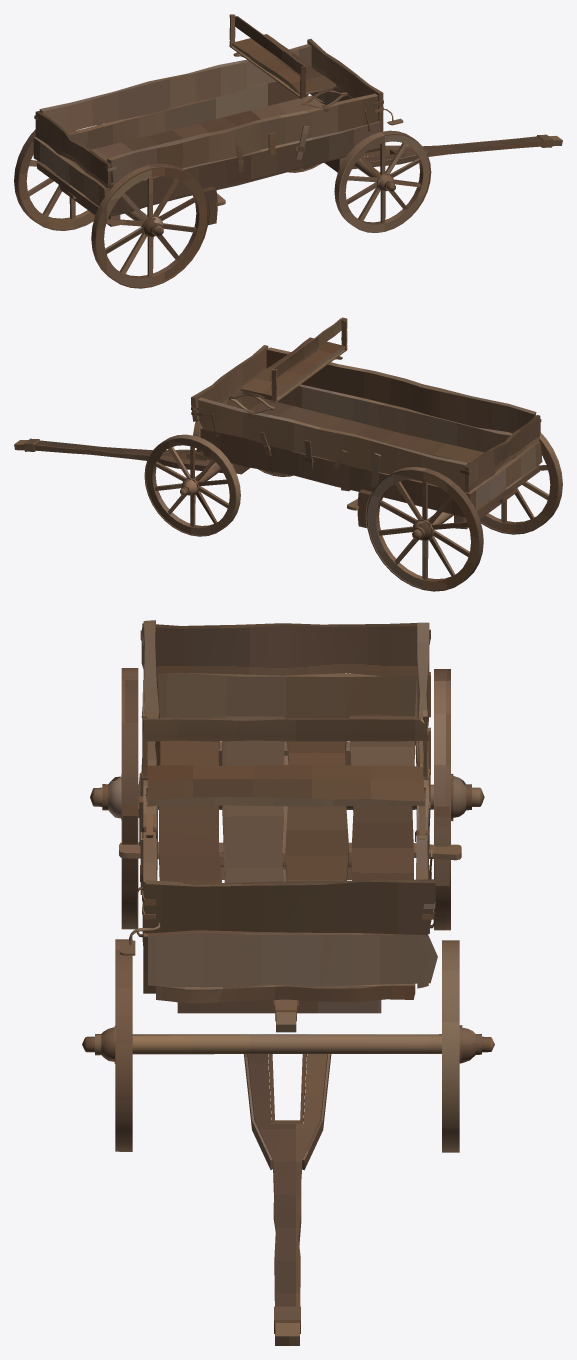
The model's file is woz.fbx.
3 views of the same model, one above another, from view 1: azimuth 30°, elevation 25°; view 2: azimuth 150°, elevation 25°; view 3: azimuth 270°, elevation 25° (orthographic). The views are drawn at different scales.
Visible parts, largest first — view 1: Wagon_low; view 2: Wagon_low; view 3: Wagon_low.
Boxes of the visible parts, bbox=[...] form: Wagon_low: bbox=[14, 14, 562, 288]; Wagon_low: bbox=[14, 317, 562, 591]; Wagon_low: bbox=[82, 620, 494, 1345].
Size of the model in its own units: 386 by 130 by 137.
